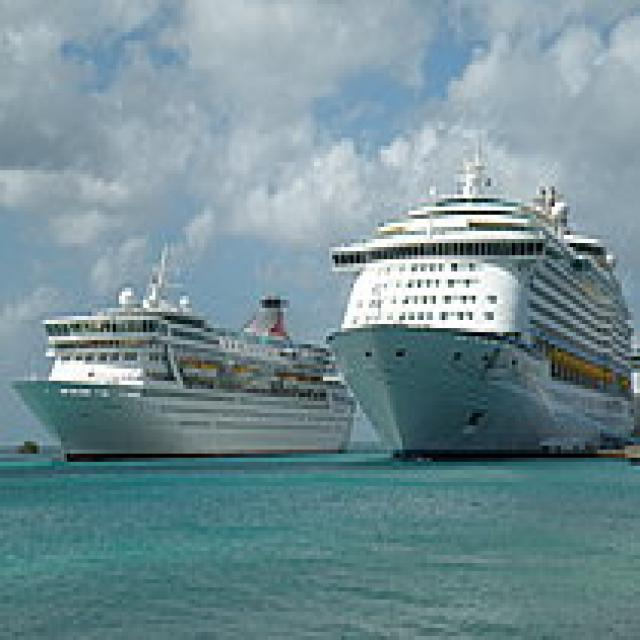Ship: (315, 122, 640, 471), (1, 228, 367, 463)
